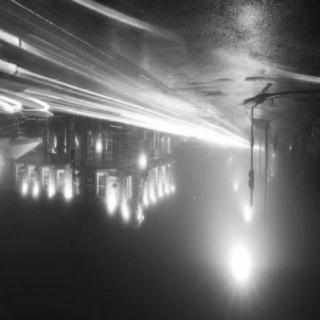other: (99, 169, 181, 223), (222, 198, 258, 292), (17, 168, 77, 212), (2, 90, 54, 132)
